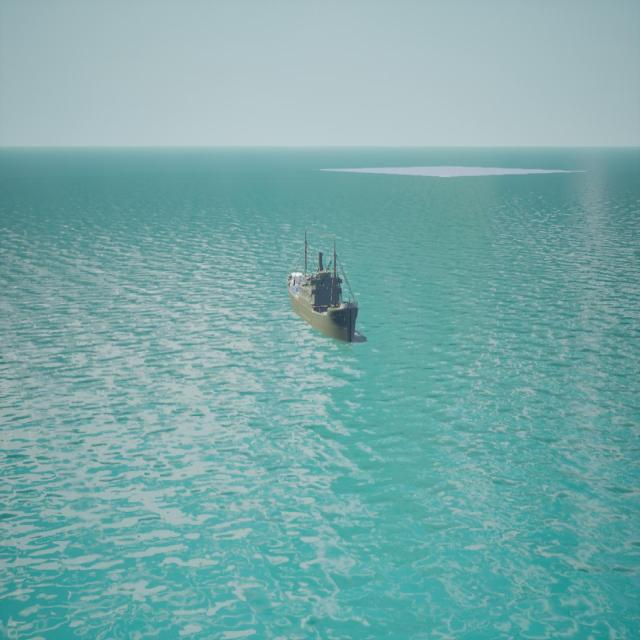fishing ship: (288, 233, 363, 346)
